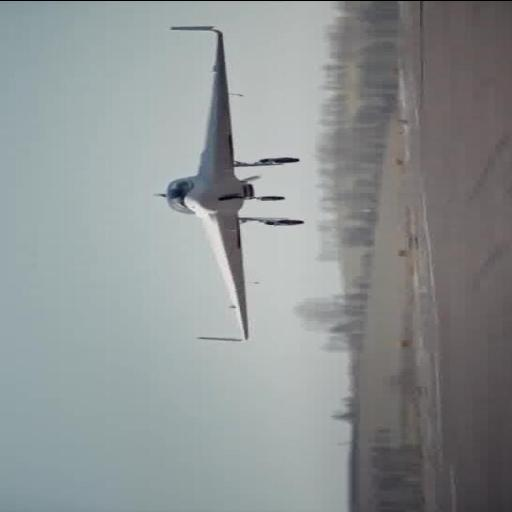uav: (144, 22, 308, 350)
